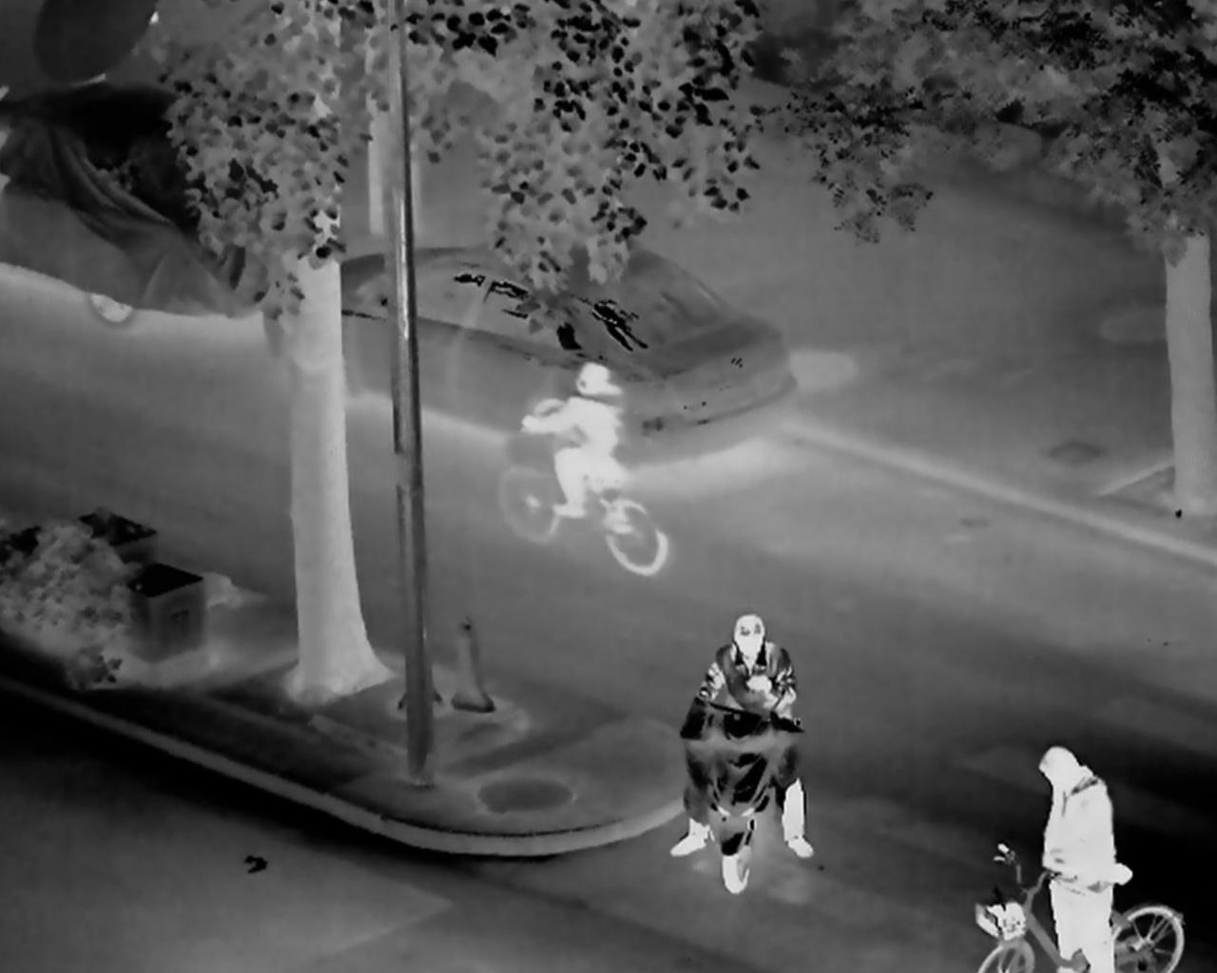person: (676, 611, 826, 888), (1005, 747, 1133, 973), (515, 362, 636, 544)
